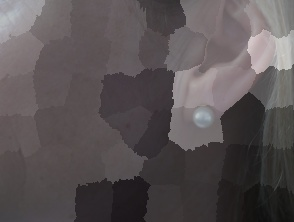vitiligo: (57, 0, 217, 222)
